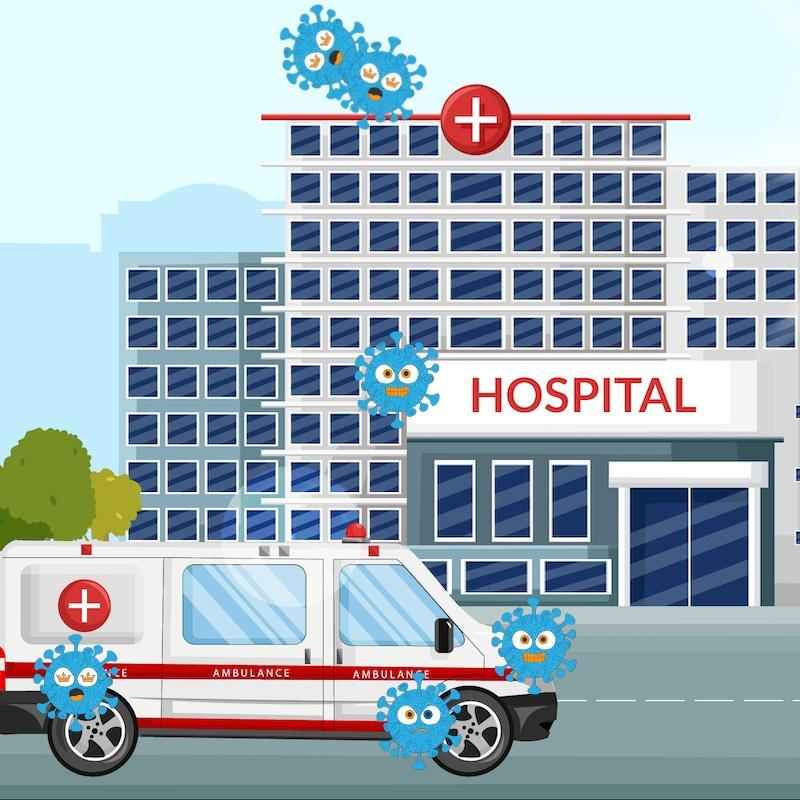corona1: (484, 593, 579, 695), (351, 328, 441, 432)
corona2: (371, 675, 461, 770)
corona4: (272, 5, 371, 96), (31, 638, 118, 728), (344, 38, 423, 124)
